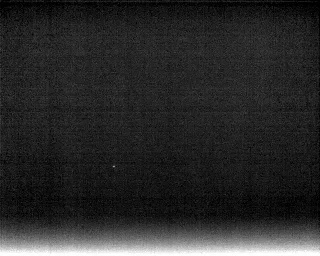AIRPLANE: (109, 162, 118, 171)
